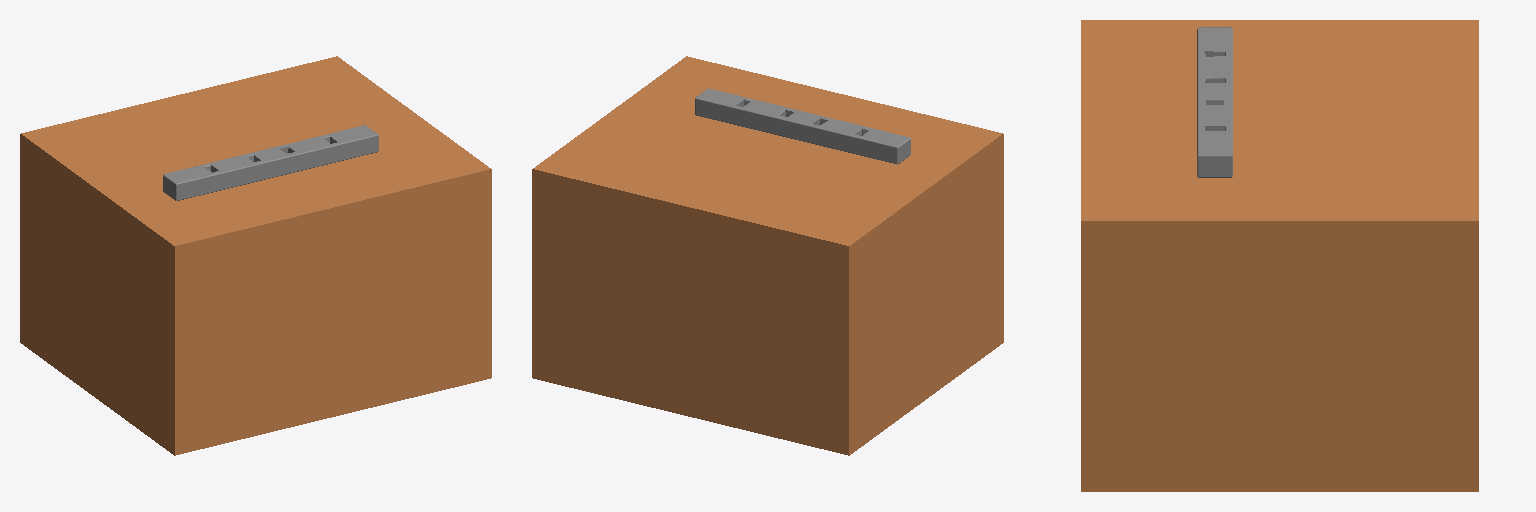
robot.urdf — table_beam_2x_2_scene_0088:
<?xml version="1.0"?>
<robot name="table_beam_2x_2_scene_0088">
  <link name="box">
    <visual>
      <material name="wood"><color rgba="0.82 0.56 0.35 1.0"/></material>
      <origin xyz="0 0 0"/>
      <geometry><box size="0.475 0.4 0.3"/></geometry>
    </visual>
    <collision>
      <origin xyz="0 0 0"/>
      <geometry><box size="0.475 0.4 0.3"/></geometry>
    </collision>
    <inertial>
      <mass value="500"/>
      <friction value="1.0"/>
      <inertia ixx="1000.0" ixy="0.0" ixz="0.0" iyy="1000.0" iyz="0.0" izz="1000.0"/>
    </inertial>
  </link>
  <link name="part_6_hull_0">
    <visual>
      <origin xyz="0 0 0" rpy="0 0 0"/>
      <geometry><mesh filename="../../6/coacd/decomp_0.obj" scale="1 1 1"/></geometry>
      <material name="placed_0"><color rgba="0.6 0.6 0.6 1.0"/></material>
    </visual>
    <collision>
      <origin xyz="0 0 0" rpy="0 0 0"/>
      <geometry><mesh filename="../../6/coacd/decomp_0.obj" scale="1 1 1"/></geometry>
    </collision>
  </link>
  <joint name="part_6_hull_0_joint" type="fixed">
    <parent link="box"/>
    <child link="part_6_hull_0"/>
    <origin xyz="-0.015214 -0.065062 0.162666" rpy="0.000000 0.000000 0.000000"/>
  </joint>
  <link name="part_6_hull_1">
    <visual>
      <origin xyz="0 0 0" rpy="0 0 0"/>
      <geometry><mesh filename="../../6/coacd/decomp_1.obj" scale="1 1 1"/></geometry>
      <material name="placed_1"><color rgba="0.6 0.6 0.6 1.0"/></material>
    </visual>
    <collision>
      <origin xyz="0 0 0" rpy="0 0 0"/>
      <geometry><mesh filename="../../6/coacd/decomp_1.obj" scale="1 1 1"/></geometry>
    </collision>
  </link>
  <joint name="part_6_hull_1_joint" type="fixed">
    <parent link="box"/>
    <child link="part_6_hull_1"/>
    <origin xyz="-0.015214 -0.065062 0.162666" rpy="0.000000 0.000000 0.000000"/>
  </joint>
  <link name="part_6_hull_2">
    <visual>
      <origin xyz="0 0 0" rpy="0 0 0"/>
      <geometry><mesh filename="../../6/coacd/decomp_10.obj" scale="1 1 1"/></geometry>
      <material name="placed_2"><color rgba="0.6 0.6 0.6 1.0"/></material>
    </visual>
    <collision>
      <origin xyz="0 0 0" rpy="0 0 0"/>
      <geometry><mesh filename="../../6/coacd/decomp_10.obj" scale="1 1 1"/></geometry>
    </collision>
  </link>
  <joint name="part_6_hull_2_joint" type="fixed">
    <parent link="box"/>
    <child link="part_6_hull_2"/>
    <origin xyz="-0.015214 -0.065062 0.162666" rpy="0.000000 0.000000 0.000000"/>
  </joint>
  <link name="part_6_hull_3">
    <visual>
      <origin xyz="0 0 0" rpy="0 0 0"/>
      <geometry><mesh filename="../../6/coacd/decomp_11.obj" scale="1 1 1"/></geometry>
      <material name="placed_3"><color rgba="0.6 0.6 0.6 1.0"/></material>
    </visual>
    <collision>
      <origin xyz="0 0 0" rpy="0 0 0"/>
      <geometry><mesh filename="../../6/coacd/decomp_11.obj" scale="1 1 1"/></geometry>
    </collision>
  </link>
  <joint name="part_6_hull_3_joint" type="fixed">
    <parent link="box"/>
    <child link="part_6_hull_3"/>
    <origin xyz="-0.015214 -0.065062 0.162666" rpy="0.000000 0.000000 0.000000"/>
  </joint>
  <link name="part_6_hull_4">
    <visual>
      <origin xyz="0 0 0" rpy="0 0 0"/>
      <geometry><mesh filename="../../6/coacd/decomp_12.obj" scale="1 1 1"/></geometry>
      <material name="placed_4"><color rgba="0.6 0.6 0.6 1.0"/></material>
    </visual>
    <collision>
      <origin xyz="0 0 0" rpy="0 0 0"/>
      <geometry><mesh filename="../../6/coacd/decomp_12.obj" scale="1 1 1"/></geometry>
    </collision>
  </link>
  <joint name="part_6_hull_4_joint" type="fixed">
    <parent link="box"/>
    <child link="part_6_hull_4"/>
    <origin xyz="-0.015214 -0.065062 0.162666" rpy="0.000000 0.000000 0.000000"/>
  </joint>
  <link name="part_6_hull_5">
    <visual>
      <origin xyz="0 0 0" rpy="0 0 0"/>
      <geometry><mesh filename="../../6/coacd/decomp_13.obj" scale="1 1 1"/></geometry>
      <material name="placed_5"><color rgba="0.6 0.6 0.6 1.0"/></material>
    </visual>
    <collision>
      <origin xyz="0 0 0" rpy="0 0 0"/>
      <geometry><mesh filename="../../6/coacd/decomp_13.obj" scale="1 1 1"/></geometry>
    </collision>
  </link>
  <joint name="part_6_hull_5_joint" type="fixed">
    <parent link="box"/>
    <child link="part_6_hull_5"/>
    <origin xyz="-0.015214 -0.065062 0.162666" rpy="0.000000 0.000000 0.000000"/>
  </joint>
  <link name="part_6_hull_6">
    <visual>
      <origin xyz="0 0 0" rpy="0 0 0"/>
      <geometry><mesh filename="../../6/coacd/decomp_2.obj" scale="1 1 1"/></geometry>
      <material name="placed_6"><color rgba="0.6 0.6 0.6 1.0"/></material>
    </visual>
    <collision>
      <origin xyz="0 0 0" rpy="0 0 0"/>
      <geometry><mesh filename="../../6/coacd/decomp_2.obj" scale="1 1 1"/></geometry>
    </collision>
  </link>
  <joint name="part_6_hull_6_joint" type="fixed">
    <parent link="box"/>
    <child link="part_6_hull_6"/>
    <origin xyz="-0.015214 -0.065062 0.162666" rpy="0.000000 0.000000 0.000000"/>
  </joint>
  <link name="part_6_hull_7">
    <visual>
      <origin xyz="0 0 0" rpy="0 0 0"/>
      <geometry><mesh filename="../../6/coacd/decomp_3.obj" scale="1 1 1"/></geometry>
      <material name="placed_7"><color rgba="0.6 0.6 0.6 1.0"/></material>
    </visual>
    <collision>
      <origin xyz="0 0 0" rpy="0 0 0"/>
      <geometry><mesh filename="../../6/coacd/decomp_3.obj" scale="1 1 1"/></geometry>
    </collision>
  </link>
  <joint name="part_6_hull_7_joint" type="fixed">
    <parent link="box"/>
    <child link="part_6_hull_7"/>
    <origin xyz="-0.015214 -0.065062 0.162666" rpy="0.000000 0.000000 0.000000"/>
  </joint>
  <link name="part_6_hull_8">
    <visual>
      <origin xyz="0 0 0" rpy="0 0 0"/>
      <geometry><mesh filename="../../6/coacd/decomp_4.obj" scale="1 1 1"/></geometry>
      <material name="placed_8"><color rgba="0.6 0.6 0.6 1.0"/></material>
    </visual>
    <collision>
      <origin xyz="0 0 0" rpy="0 0 0"/>
      <geometry><mesh filename="../../6/coacd/decomp_4.obj" scale="1 1 1"/></geometry>
    </collision>
  </link>
  <joint name="part_6_hull_8_joint" type="fixed">
    <parent link="box"/>
    <child link="part_6_hull_8"/>
    <origin xyz="-0.015214 -0.065062 0.162666" rpy="0.000000 0.000000 0.000000"/>
  </joint>
  <link name="part_6_hull_9">
    <visual>
      <origin xyz="0 0 0" rpy="0 0 0"/>
      <geometry><mesh filename="../../6/coacd/decomp_5.obj" scale="1 1 1"/></geometry>
      <material name="placed_9"><color rgba="0.6 0.6 0.6 1.0"/></material>
    </visual>
    <collision>
      <origin xyz="0 0 0" rpy="0 0 0"/>
      <geometry><mesh filename="../../6/coacd/decomp_5.obj" scale="1 1 1"/></geometry>
    </collision>
  </link>
  <joint name="part_6_hull_9_joint" type="fixed">
    <parent link="box"/>
    <child link="part_6_hull_9"/>
    <origin xyz="-0.015214 -0.065062 0.162666" rpy="0.000000 0.000000 0.000000"/>
  </joint>
  <link name="part_6_hull_10">
    <visual>
      <origin xyz="0 0 0" rpy="0 0 0"/>
      <geometry><mesh filename="../../6/coacd/decomp_6.obj" scale="1 1 1"/></geometry>
      <material name="placed_10"><color rgba="0.6 0.6 0.6 1.0"/></material>
    </visual>
    <collision>
      <origin xyz="0 0 0" rpy="0 0 0"/>
      <geometry><mesh filename="../../6/coacd/decomp_6.obj" scale="1 1 1"/></geometry>
    </collision>
  </link>
  <joint name="part_6_hull_10_joint" type="fixed">
    <parent link="box"/>
    <child link="part_6_hull_10"/>
    <origin xyz="-0.015214 -0.065062 0.162666" rpy="0.000000 0.000000 0.000000"/>
  </joint>
  <link name="part_6_hull_11">
    <visual>
      <origin xyz="0 0 0" rpy="0 0 0"/>
      <geometry><mesh filename="../../6/coacd/decomp_7.obj" scale="1 1 1"/></geometry>
      <material name="placed_11"><color rgba="0.6 0.6 0.6 1.0"/></material>
    </visual>
    <collision>
      <origin xyz="0 0 0" rpy="0 0 0"/>
      <geometry><mesh filename="../../6/coacd/decomp_7.obj" scale="1 1 1"/></geometry>
    </collision>
  </link>
  <joint name="part_6_hull_11_joint" type="fixed">
    <parent link="box"/>
    <child link="part_6_hull_11"/>
    <origin xyz="-0.015214 -0.065062 0.162666" rpy="0.000000 0.000000 0.000000"/>
  </joint>
  <link name="part_6_hull_12">
    <visual>
      <origin xyz="0 0 0" rpy="0 0 0"/>
      <geometry><mesh filename="../../6/coacd/decomp_8.obj" scale="1 1 1"/></geometry>
      <material name="placed_12"><color rgba="0.6 0.6 0.6 1.0"/></material>
    </visual>
    <collision>
      <origin xyz="0 0 0" rpy="0 0 0"/>
      <geometry><mesh filename="../../6/coacd/decomp_8.obj" scale="1 1 1"/></geometry>
    </collision>
  </link>
  <joint name="part_6_hull_12_joint" type="fixed">
    <parent link="box"/>
    <child link="part_6_hull_12"/>
    <origin xyz="-0.015214 -0.065062 0.162666" rpy="0.000000 0.000000 0.000000"/>
  </joint>
  <link name="part_6_hull_13">
    <visual>
      <origin xyz="0 0 0" rpy="0 0 0"/>
      <geometry><mesh filename="../../6/coacd/decomp_9.obj" scale="1 1 1"/></geometry>
      <material name="placed_13"><color rgba="0.6 0.6 0.6 1.0"/></material>
    </visual>
    <collision>
      <origin xyz="0 0 0" rpy="0 0 0"/>
      <geometry><mesh filename="../../6/coacd/decomp_9.obj" scale="1 1 1"/></geometry>
    </collision>
  </link>
  <joint name="part_6_hull_13_joint" type="fixed">
    <parent link="box"/>
    <child link="part_6_hull_13"/>
    <origin xyz="-0.015214 -0.065062 0.162666" rpy="0.000000 0.000000 0.000000"/>
  </joint>
</robot>

--- What the picture shows (computed from the rendered views, not written in the file) ---
The picture shows the robot from 3 angles, left to right: view 1: azimuth 30°, elevation 25°; view 2: azimuth 150°, elevation 25°; view 3: azimuth 270°, elevation 25°; orthographic projection.
Model table_beam_2x_2_scene_0088 with 15 links and 14 joints (14 fixed), rooted at box, posed every joint at zero.
Visible links, largest first — view 1: box, part_6_hull_1, part_6_hull_0, part_6_hull_9, part_6_hull_5, part_6_hull_3; view 2: box, part_6_hull_1, part_6_hull_0, part_6_hull_2, part_6_hull_12, part_6_hull_5; view 3: box, part_6_hull_0, part_6_hull_1, part_6_hull_5, part_6_hull_2.
Boxes of the visible links, <box> form: box: <box>20,56,491,455</box>; part_6_hull_1: <box>163,165,214,200</box>; part_6_hull_0: <box>328,125,378,160</box>; part_6_hull_9: <box>213,161,263,191</box>; part_6_hull_5: <box>294,136,333,168</box>; part_6_hull_3: <box>265,150,306,178</box>; box: <box>532,56,1003,455</box>; part_6_hull_1: <box>859,128,910,164</box>; part_6_hull_0: <box>695,88,745,124</box>; part_6_hull_2: <box>817,120,861,152</box>; part_6_hull_12: <box>767,113,808,141</box>; part_6_hull_5: <box>741,100,779,132</box>; box: <box>1081,20,1478,491</box>; part_6_hull_0: <box>1197,131,1232,177</box>; part_6_hull_1: <box>1197,27,1232,56</box>; part_6_hull_5: <box>1197,109,1232,130</box>; part_6_hull_2: <box>1206,56,1232,82</box>.
Bounding box of the posed robot: 0.475 × 0.4 × 0.3254 m (x, y, z).
Meshes: 14 distinct files referenced, 14 mesh visuals loaded (14 OBJ).
